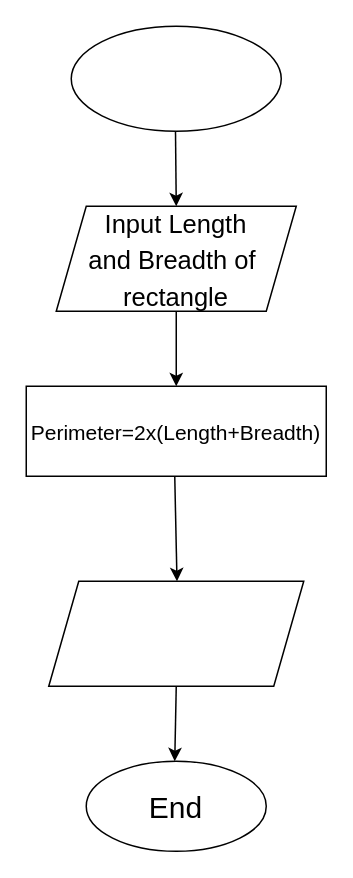
Some shapes in this 353 by 878 pixel diagram are drawn without their labels. The shapes that lost their labels are listed below. From the top down, each one's centre as x and y in pixels, then its label:
At (175,78): "Start".
At (175,633): "Print the Perimeter of rectangle".
